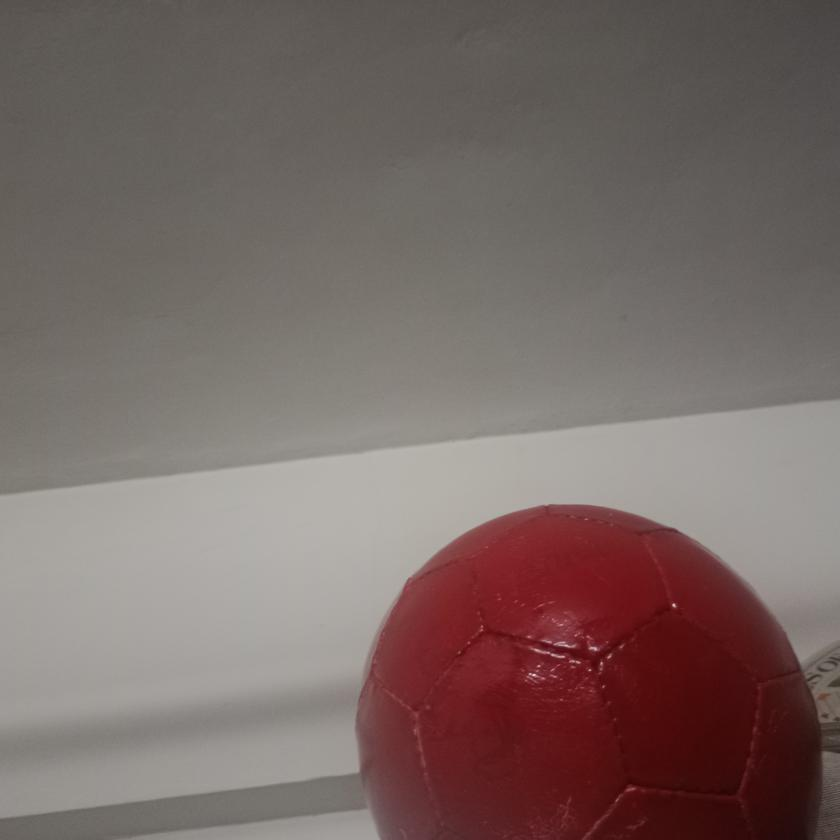Red_Ball: (351, 500, 840, 840)
